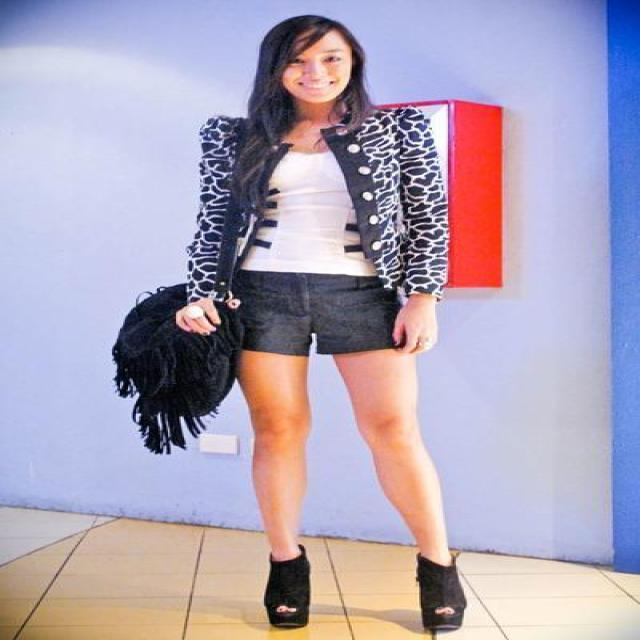bag: (112, 284, 242, 449)
jacket: (155, 106, 448, 298)
shirt: (250, 151, 362, 274)
shoe: (264, 550, 466, 639)
shorts: (205, 270, 416, 355)
